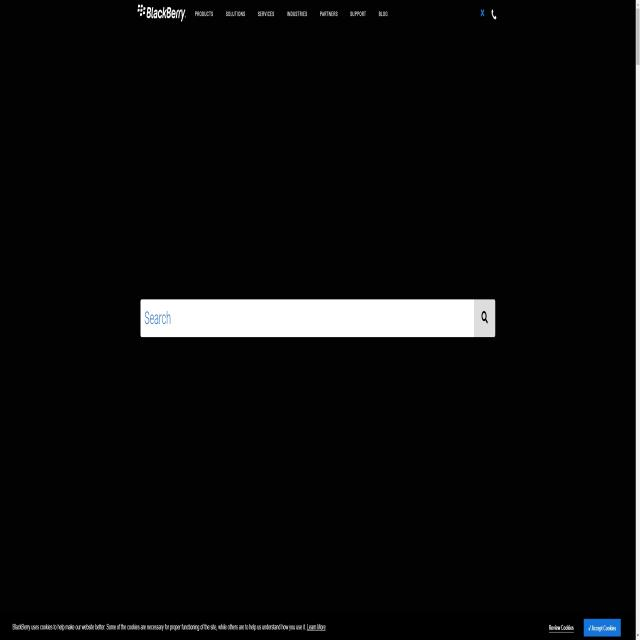menu-bar: (190, 4, 390, 25)
search: (134, 286, 511, 348)
